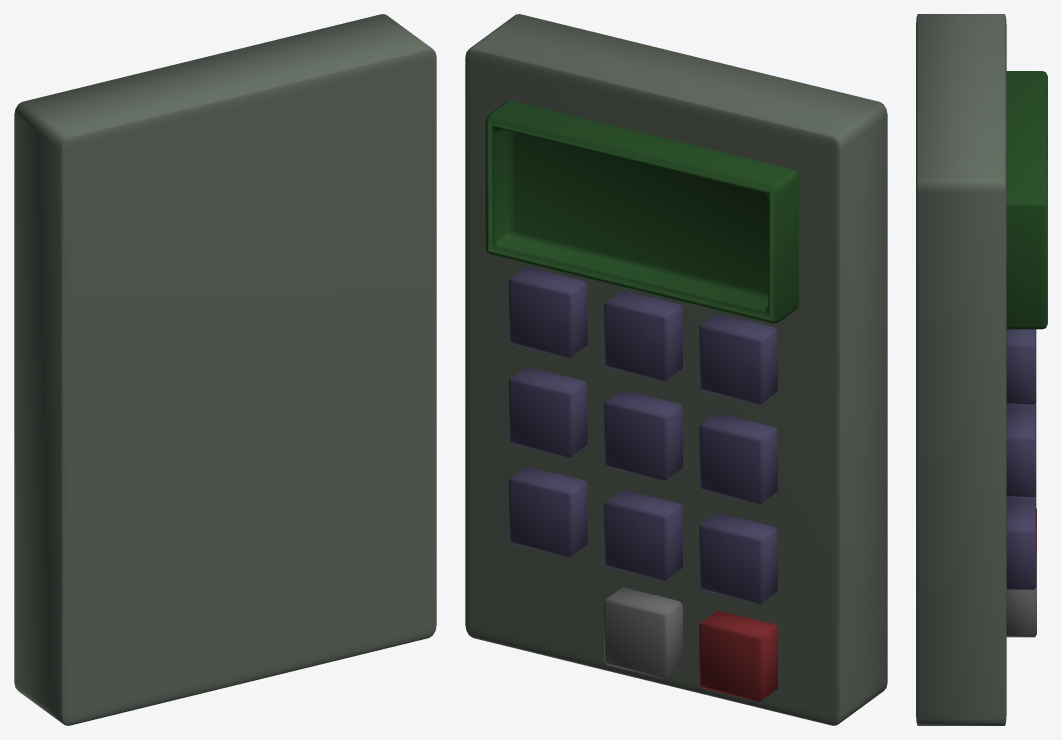
The model's file is kod.fbx.
The picture shows the model from 3 angles, left to right: view 1: azimuth 30°, elevation 25°; view 2: azimuth 150°, elevation 25°; view 3: azimuth 270°, elevation 25°; orthographic projection. The views are drawn at different scales.
Visible parts, largest first — view 1: Cube; view 2: Cube; view 3: Cube.
Boxes of the visible parts, left/top/right/bottom form: Cube: left=14, top=14, right=436, bottom=725; Cube: left=465, top=14, right=887, bottom=725; Cube: left=916, top=14, right=1047, bottom=725.
Size of the model in its own units: 43.62 by 133 by 200.
